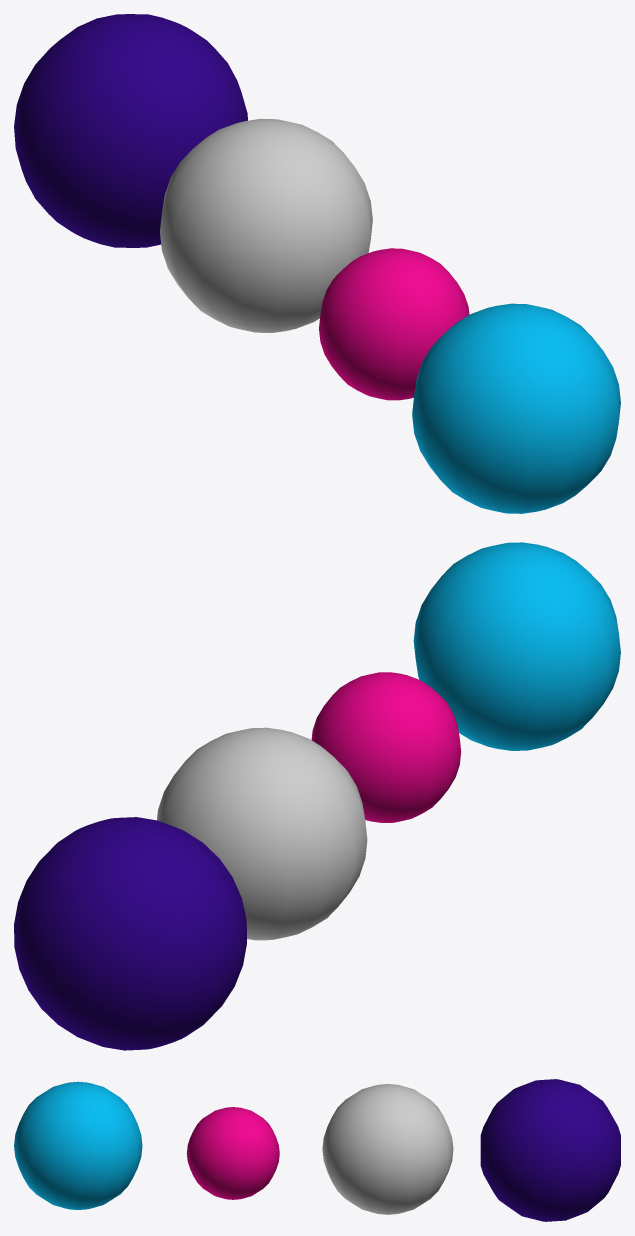
The model's file is 3datoms.glb.
3 views of the same model, one above another, from view 1: azimuth 30°, elevation 25°; view 2: azimuth 150°, elevation 25°; view 3: azimuth 270°, elevation 25° (orthographic). The views are drawn at different scales.
Visible parts, largest first — view 1: Shape_Sphere.023, Shape_Sphere.001, Shape_Sphere, Shape_Sphere.034; view 2: Shape_Sphere.023, Shape_Sphere, Shape_Sphere.001, Shape_Sphere.034; view 3: Shape_Sphere.023, Shape_Sphere.001, Shape_Sphere, Shape_Sphere.034.
Boxes of the visible parts, <box> form: Shape_Sphere.023: <box>14,14,247,247</box>; Shape_Sphere.001: <box>160,118,372,332</box>; Shape_Sphere: <box>412,303,620,513</box>; Shape_Sphere.034: <box>319,248,469,400</box>; Shape_Sphere.023: <box>14,817,246,1050</box>; Shape_Sphere: <box>413,542,620,750</box>; Shape_Sphere.001: <box>157,727,367,940</box>; Shape_Sphere.034: <box>311,672,461,822</box>; Shape_Sphere.023: <box>480,1079,620,1221</box>; Shape_Sphere.001: <box>322,1084,453,1214</box>; Shape_Sphere: <box>14,1081,142,1209</box>; Shape_Sphere.034: <box>186,1107,279,1199</box>.
Bounding box in the file's own units: 1.01 × 1.02 × 4.31.
